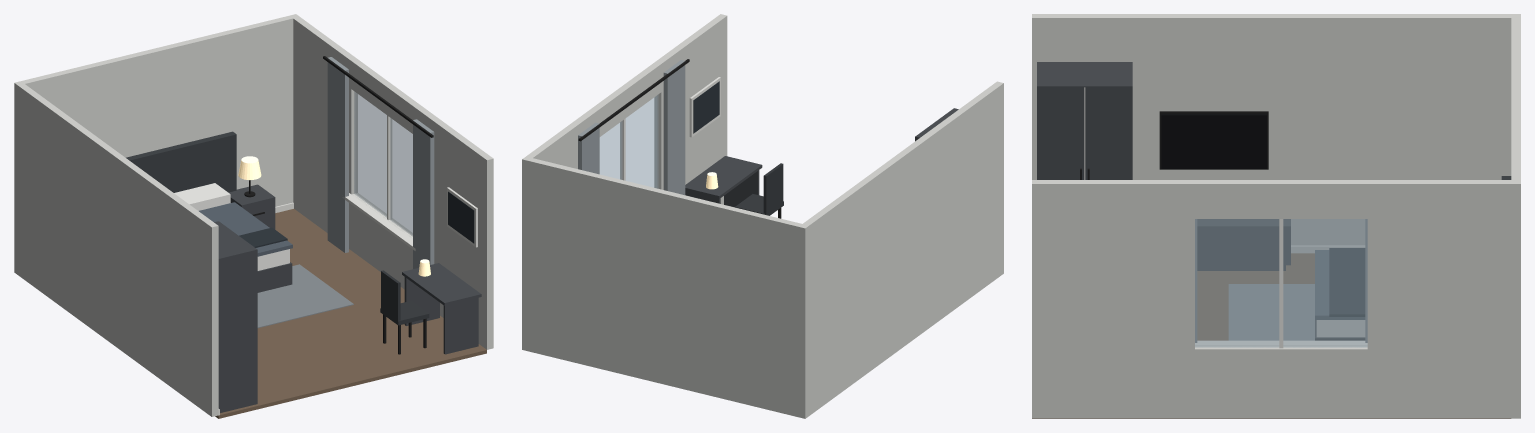
File: room-5.glb
3 views of the same model, side by side, from view 1: azimuth 30°, elevation 25°; view 2: azimuth 150°, elevation 25°; view 3: azimuth 270°, elevation 25° (orthographic). The views are drawn at different scales.
Parts seen in each view (by area): view 1: wall, floor, wood, curtain, glass, headboard, rug, window_frame, blanket, runner, linen, chair (+2 smaller); view 2: wall, glass, curtain, wood, chair, runner, window_frame, metal; view 3: wall, glass, wood, screen, rug, floor, runner, window_frame, blanket, linen, metal, curtain (+1 smaller).
Boxes of the visible parts, x1,y1,x2,y2 form: wall: [14, 14, 493, 416]; floor: [215, 209, 486, 418]; wood: [214, 184, 481, 412]; curtain: [327, 57, 434, 268]; glass: [354, 91, 412, 236]; headboard: [126, 131, 236, 192]; rug: [257, 264, 353, 328]; window_frame: [342, 115, 477, 250]; blanket: [199, 202, 292, 256]; runner: [239, 191, 474, 247]; linen: [174, 183, 289, 270]; chair: [380, 270, 429, 325]; wall: [522, 14, 1003, 418]; glass: [599, 95, 658, 188]; curtain: [578, 60, 685, 195]; wood: [685, 108, 958, 207]; chair: [735, 163, 783, 215]; runner: [693, 81, 719, 133]; window_frame: [620, 77, 720, 180]; metal: [578, 59, 781, 218]; wall: [1032, 14, 1520, 418]; glass: [1195, 219, 1367, 347]; wood: [1037, 62, 1365, 340]; screen: [1161, 114, 1266, 168]; rug: [1228, 284, 1314, 340]; floor: [1032, 253, 1510, 418]; runner: [1329, 248, 1365, 316]; window_frame: [1195, 219, 1367, 348]; blanket: [1315, 250, 1365, 319]; linen: [1316, 320, 1365, 337]; metal: [1080, 111, 1268, 179]; curtain: [1195, 219, 1367, 342].
Bounding box in the file's own units: 4.2 × 2.75 × 5.1.
